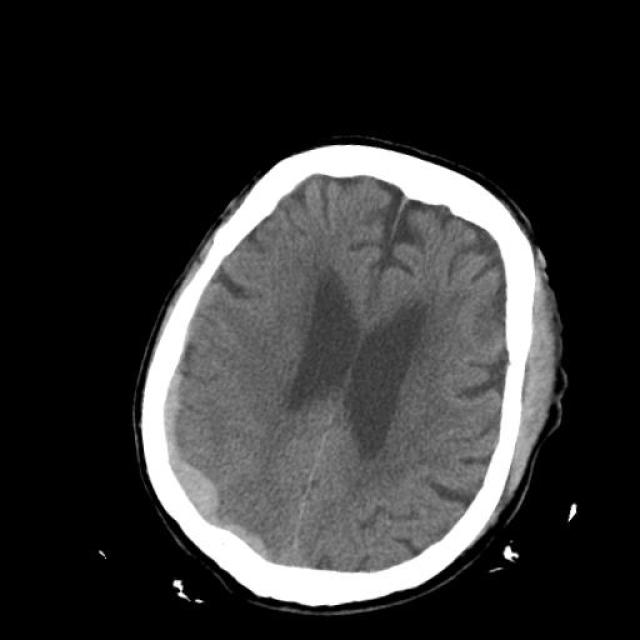Subdural: (142, 335, 272, 591)
